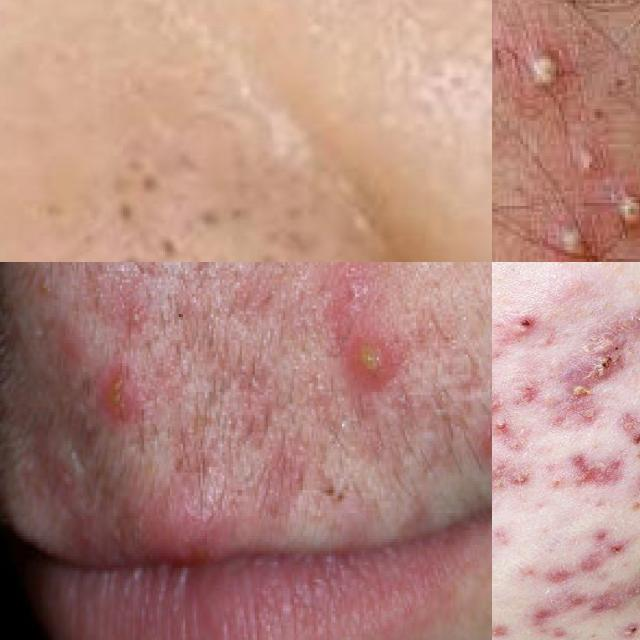acne_scars: (530, 517, 640, 580), (507, 582, 640, 626), (549, 448, 640, 507)
comedone: (98, 165, 207, 262), (223, 213, 326, 262)
pustule: (507, 27, 581, 135), (559, 220, 586, 256), (622, 191, 640, 238)
sebo-crystan-conglo: (541, 312, 640, 409), (508, 309, 538, 355)
